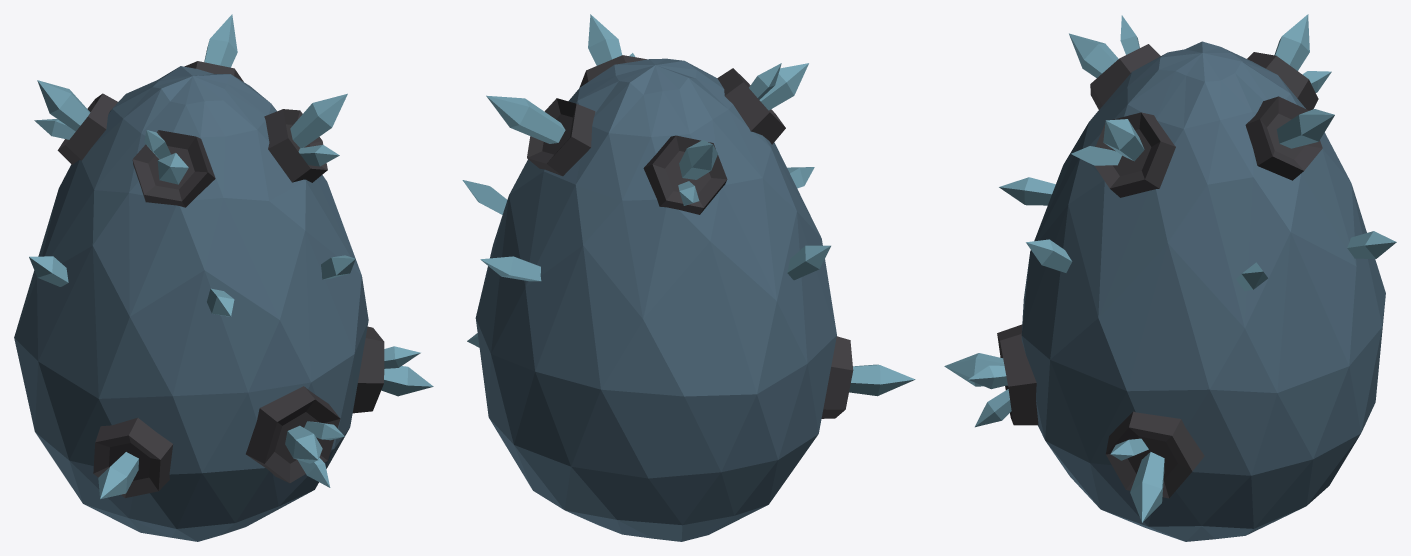
File: geode-dragon-egg-89141e.glb
3 views of the same model, side by side, from view 1: azimuth 30°, elevation 25°; view 2: azimuth 150°, elevation 25°; view 3: azimuth 270°, elevation 25° (orthographic). The views are drawn at different scales.
Parts seen in each view (by area): view 1: geode-egg-body; view 2: geode-egg-body; view 3: geode-egg-body.
Boxes of the visible parts, x1,y1,x2,y2 form: geode-egg-body: (14,14,433,541); geode-egg-body: (462,14,915,541); geode-egg-body: (944,14,1396,541).
Bounding box in the file's own units: 0.6307 × 0.7 × 0.6081.
